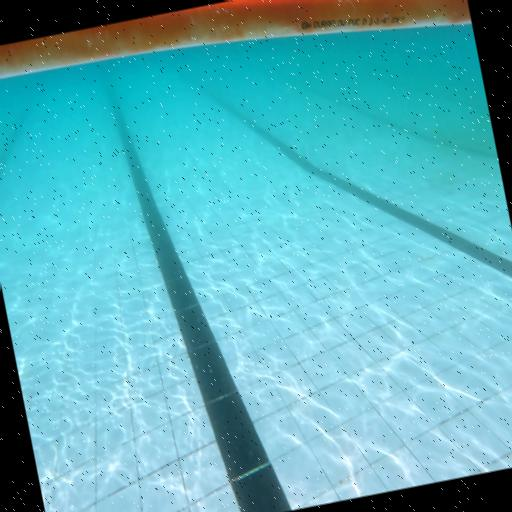upper_gate: (0, 0, 471, 121)
